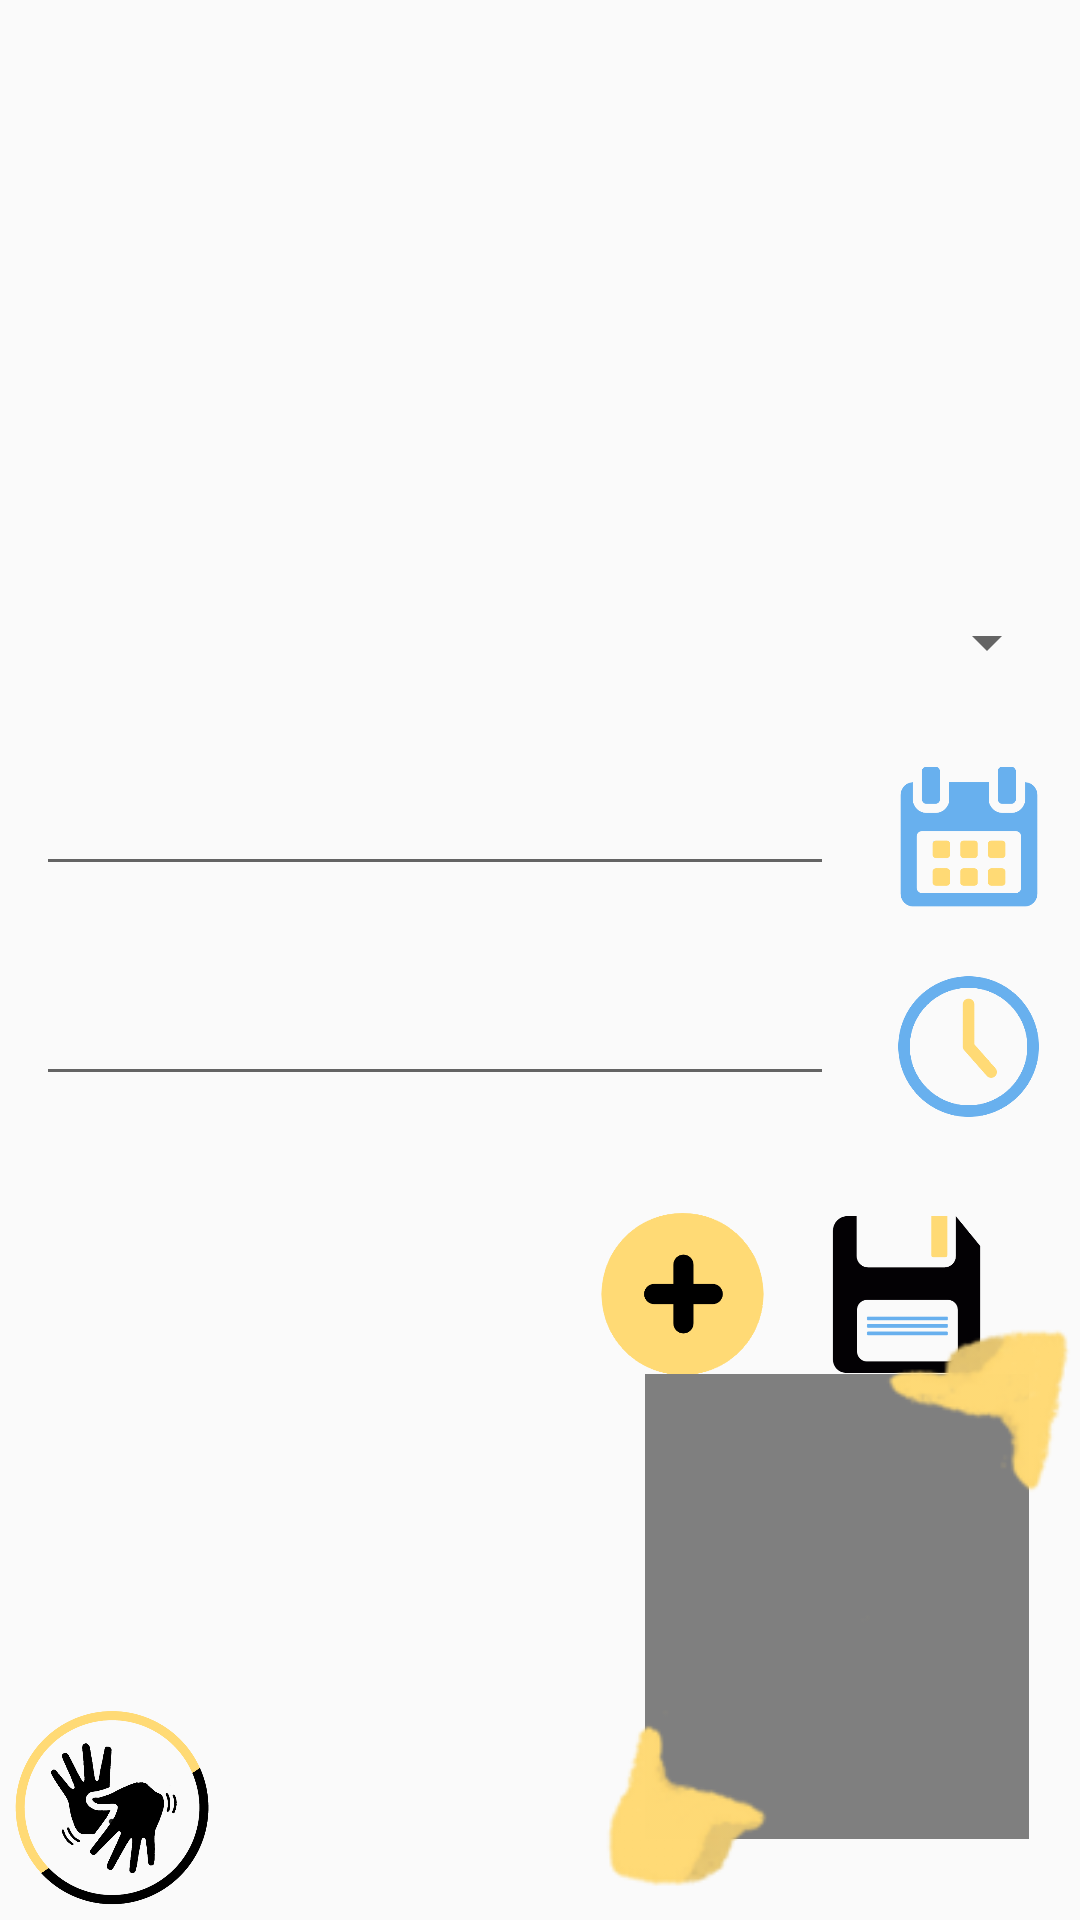

Point at icon controls on the screen. Image size 1080×1920, points as point (x, y).
add: point (683, 1295)
calendario: point (969, 837)
disket: point (907, 1296)
relogio: point (968, 1046)
